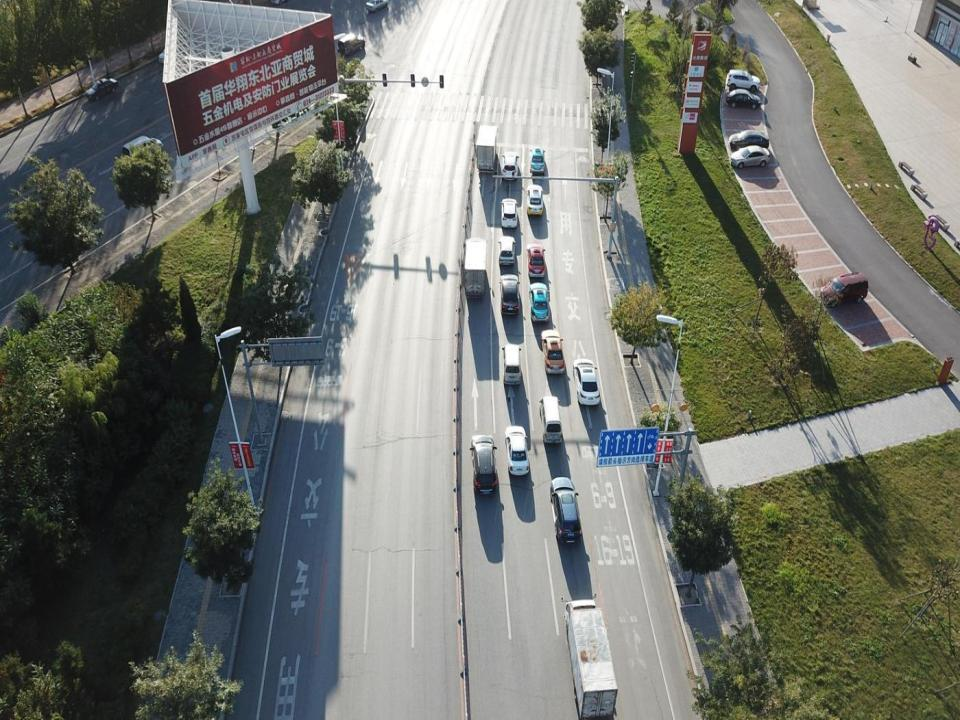car: (550, 477, 582, 546), (471, 436, 500, 496), (573, 356, 601, 407), (505, 424, 529, 476), (542, 330, 564, 376), (731, 146, 771, 170), (499, 274, 521, 317), (728, 130, 768, 152), (726, 69, 761, 94), (526, 242, 546, 280), (86, 78, 116, 103), (530, 283, 549, 322), (159, 42, 186, 68), (726, 90, 760, 110), (500, 198, 518, 230), (501, 151, 520, 181), (526, 185, 543, 216), (498, 237, 516, 266), (529, 147, 545, 174), (365, 0, 388, 14)
truck: (565, 596, 619, 717), (464, 236, 486, 300), (476, 124, 498, 173)
van: (823, 271, 869, 309), (122, 135, 162, 172), (541, 396, 562, 444), (501, 344, 521, 388), (339, 33, 365, 58)
